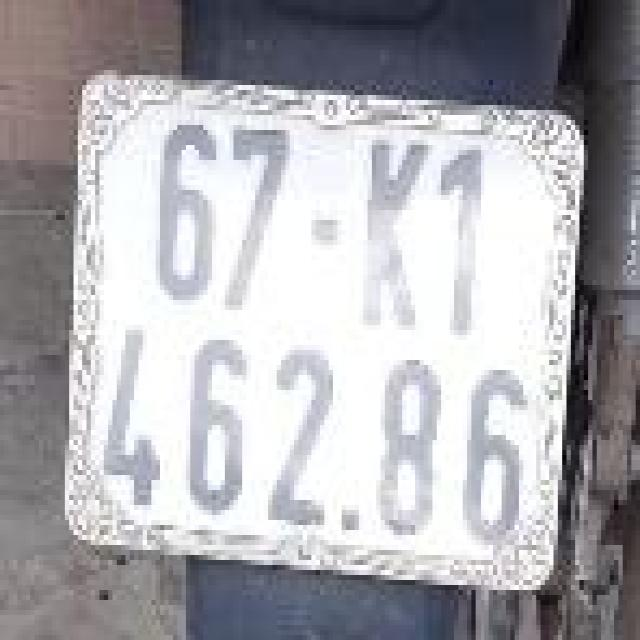1: (439, 145, 499, 345)
2: (262, 328, 340, 538)
4: (89, 298, 158, 502)
6: (454, 352, 541, 552), (179, 318, 253, 528), (147, 112, 225, 302)
7: (223, 122, 296, 312)
8: (372, 352, 445, 552)
K: (357, 135, 439, 335)
